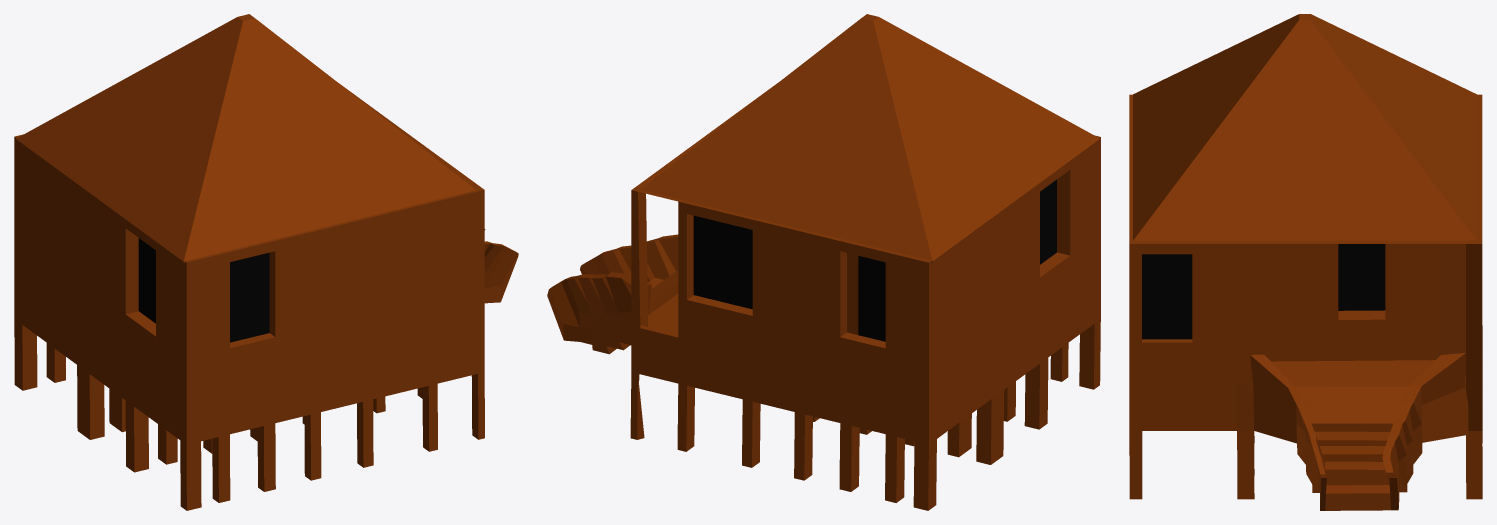
File: rumah3.fbx
3 views of the same model, side by side, from view 1: azimuth 30°, elevation 25°; view 2: azimuth 150°, elevation 25°; view 3: azimuth 270°, elevation 25° (orthographic). The views are drawn at different scales.
Visible parts, largest first — view 1: Cube; view 2: Cube; view 3: Cube.
Boxes of the visible parts, bbox=[...] form: Cube: bbox=[14, 14, 518, 510]; Cube: bbox=[547, 14, 1100, 510]; Cube: bbox=[1129, 14, 1482, 510].
Size of the model in its own units: 1181 by 1055 by 826.
